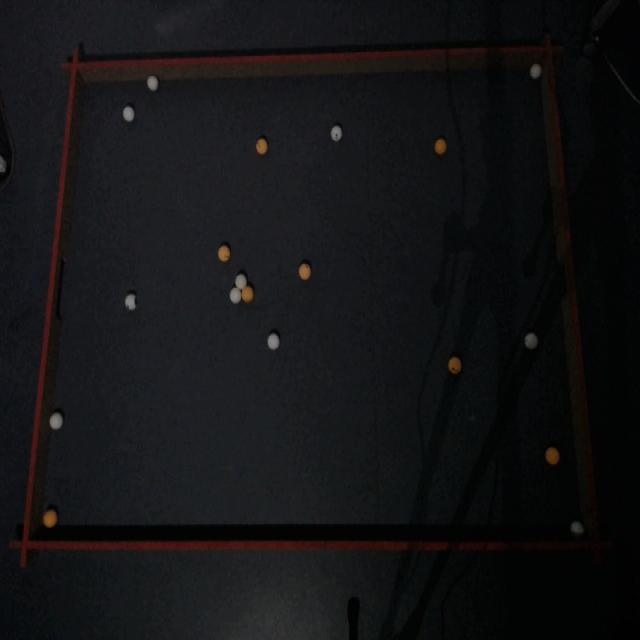orange_ball: (545, 446, 559, 466), (43, 509, 57, 529), (298, 262, 311, 280), (241, 285, 254, 303), (434, 138, 447, 155), (448, 357, 461, 374), (218, 244, 230, 262), (256, 138, 266, 154)
white_ball: (49, 412, 64, 431), (524, 332, 538, 350), (267, 332, 280, 350), (570, 520, 584, 536), (529, 63, 542, 79), (123, 105, 135, 122), (146, 75, 158, 92), (235, 272, 247, 289), (331, 125, 342, 141), (230, 287, 240, 303), (129, 296, 136, 308)
